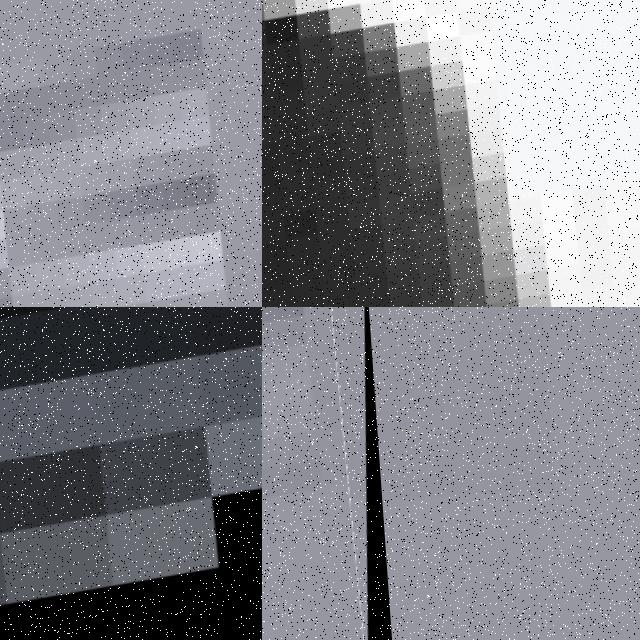0: (0, 0, 262, 307), (262, 307, 408, 640)
drone: (262, 0, 640, 307), (0, 307, 262, 640)
